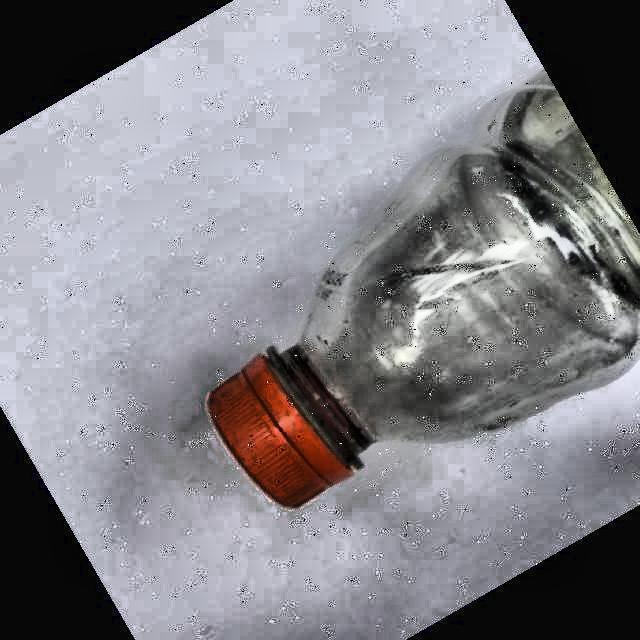plastic: (210, 72, 640, 507)
